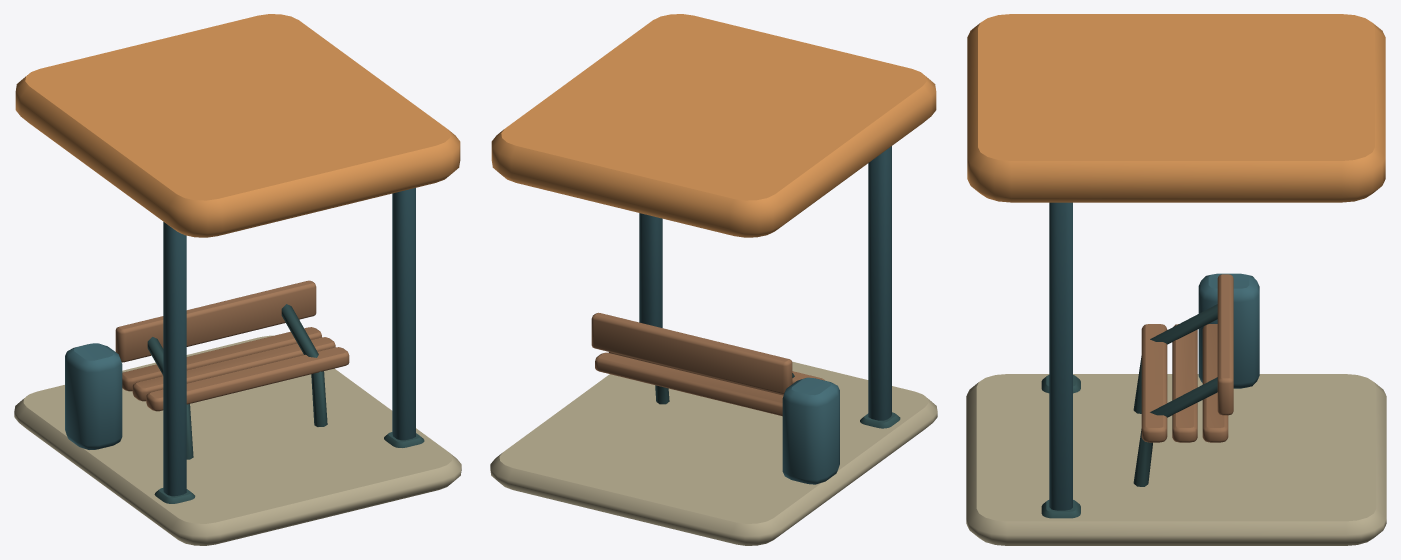
File: harbor_transport_2.glb
The picture shows the model from 3 angles, left to right: view 1: azimuth 30°, elevation 25°; view 2: azimuth 150°, elevation 25°; view 3: azimuth 270°, elevation 25°; orthographic projection. The views are drawn at different scales.
Visible parts, largest first — view 1: HarborTransport2; view 2: HarborTransport2; view 3: HarborTransport2.
Part boxes in pixels (<box>): HarborTransport2: <box>14,14,461,545</box>; HarborTransport2: <box>490,14,937,545</box>; HarborTransport2: <box>966,14,1386,545</box>.
Size of the model in its own units: 2.18 by 2.51 by 2.48.
